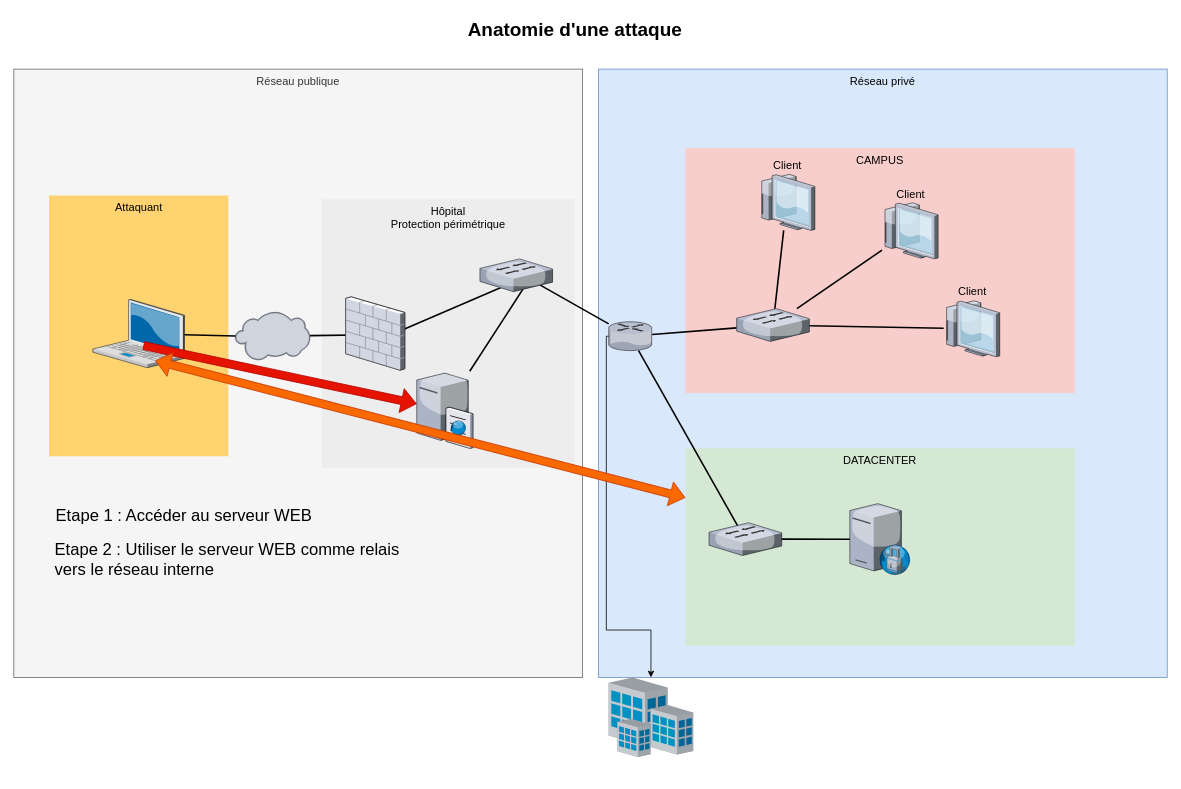
Some shapes in this 1181 by 789 pixel diagram are drawn without their labels. Each missing label, with the centre of its shape:
SRV-2008: point (879, 538)
SRV-WEB: point (444, 409)
VPN Autres Hôpitaux: point (650, 717)
